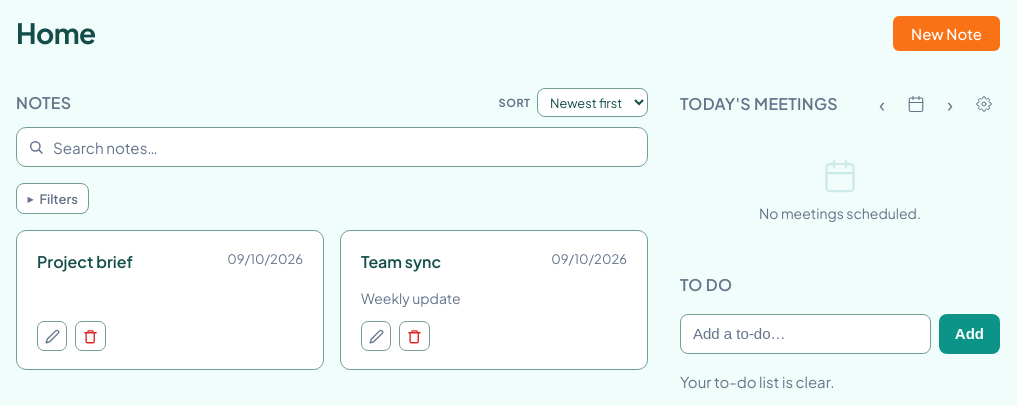
NoteCard — delete affordance › clicking delete on one card does not show confirmation on another card
The width and height of the screenshot is (1017, 406).
Click the button named "delete \"Team sync\"". click: [415, 336]
box: [399,321,430,351]
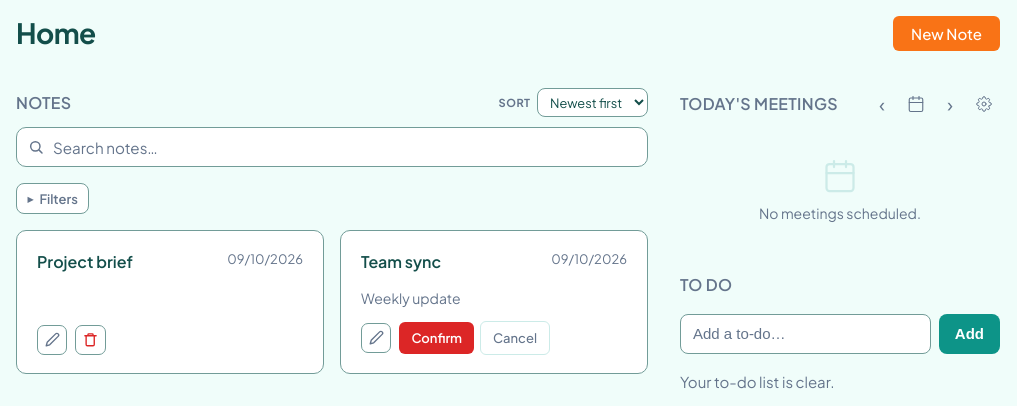
Expected: the button named "delete \"Project brief\"" is shown, [75,324,106,355]
Expected: the number of buttons named "confirm delete" is 1, [399,322,474,354]
